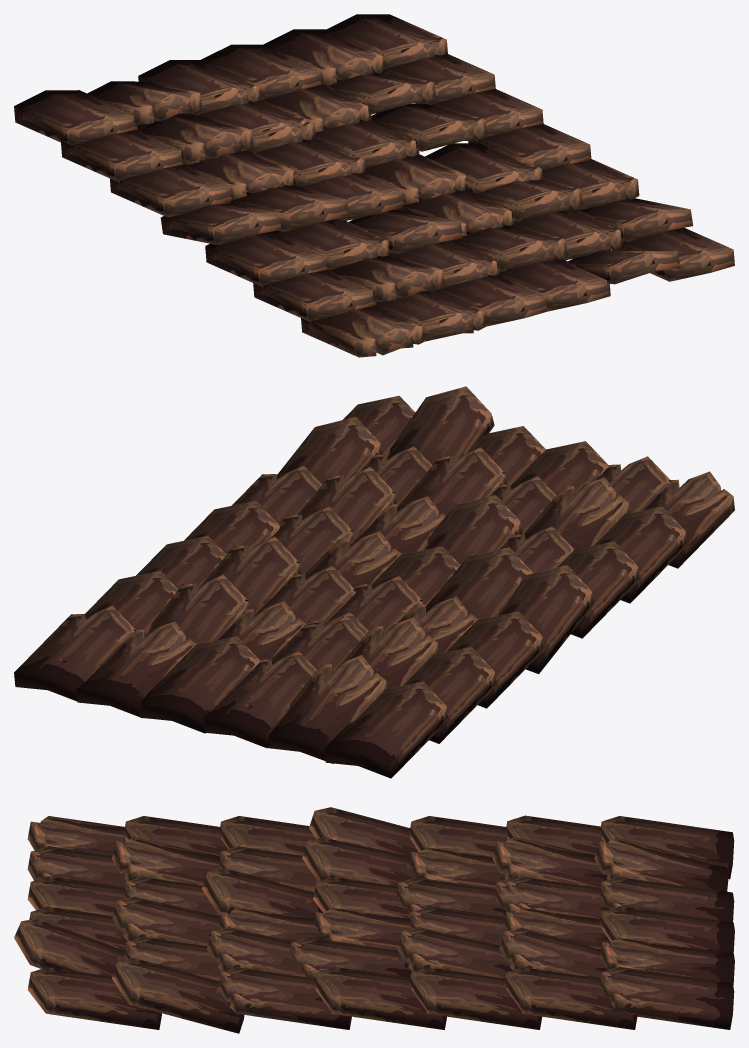
The model's file is VV-RoofTile0.fbx.
3 views of the same model, one above another, from view 1: azimuth 30°, elevation 25°; view 2: azimuth 150°, elevation 25°; view 3: azimuth 270°, elevation 25° (orthographic).
Parts seen in each view (by area): view 1: RoofTiles; view 2: RoofTiles; view 3: RoofTiles.
Boxes of the visible parts, bbox=[...] form: RoofTiles: bbox=[14, 14, 734, 357]; RoofTiles: bbox=[14, 386, 734, 778]; RoofTiles: bbox=[14, 807, 734, 1033].
Size of the model in its own units: 1.82 by 0.3084 by 3.03.
